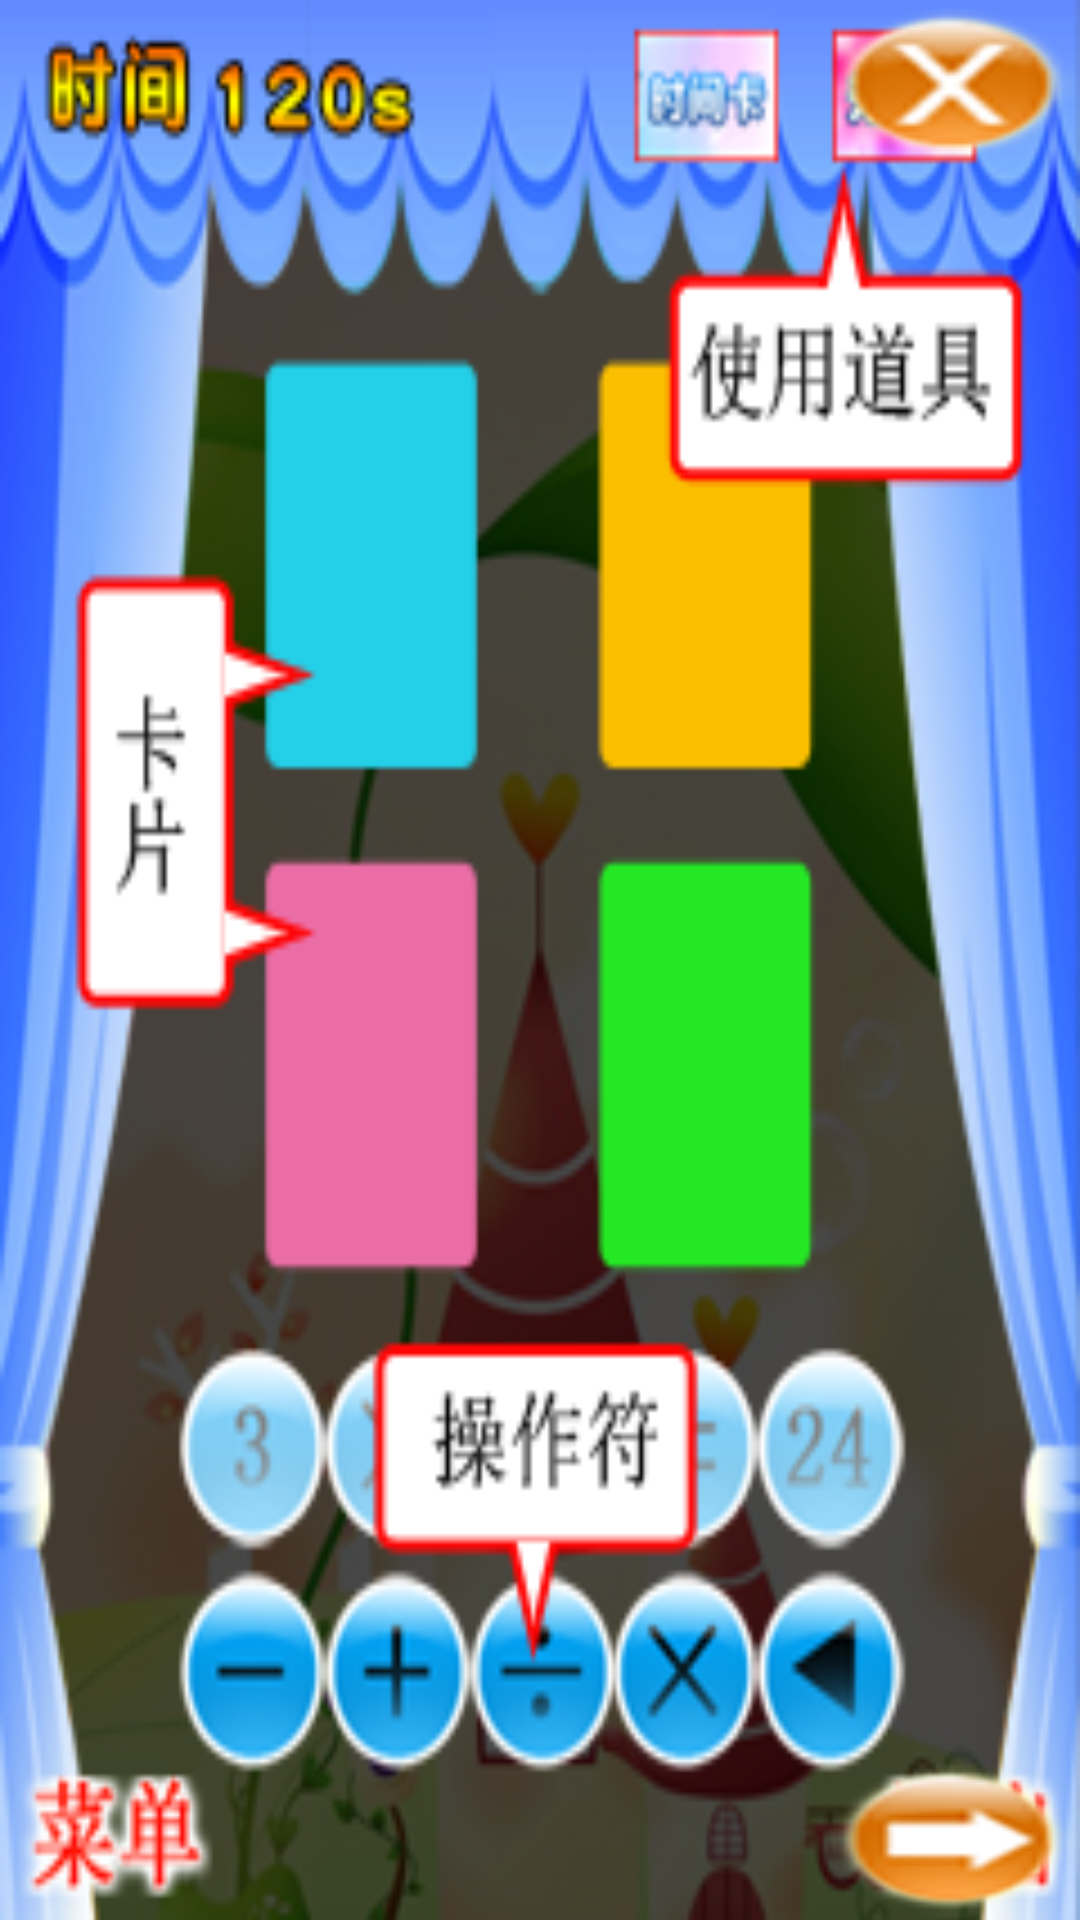

Icons on this 1080x1920 Android screen, each with the point to tap as point (x, y):
close: point (948, 82)
next: point (948, 1837)
